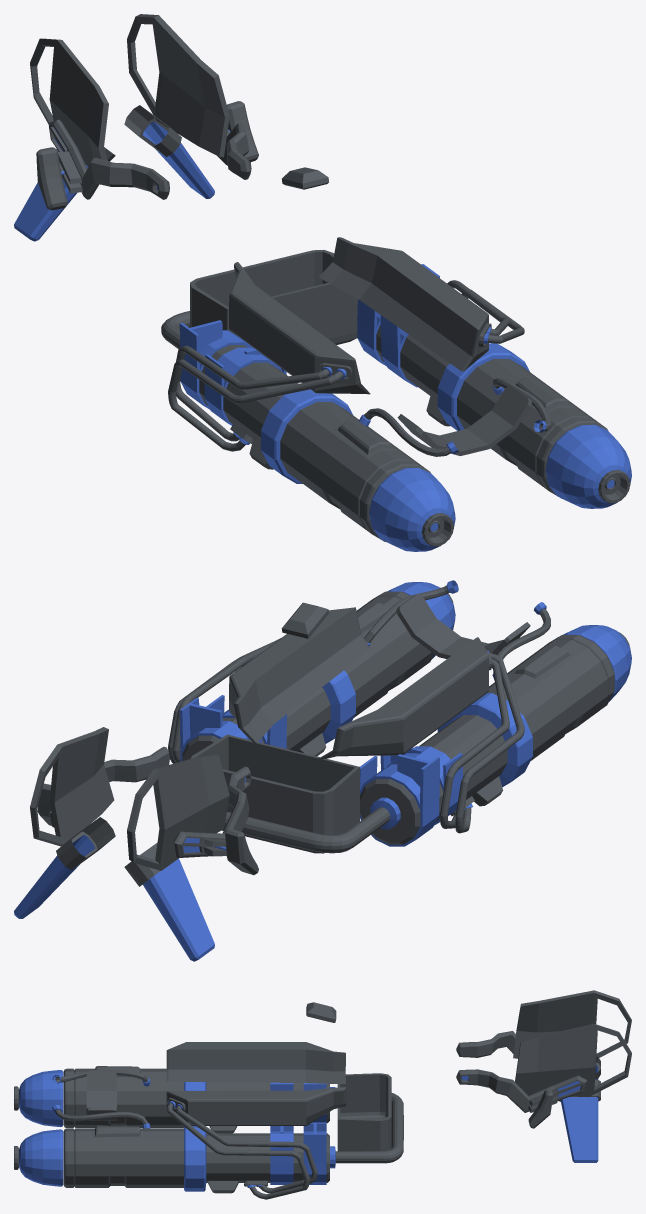
Rendered from Personal_Vehicle_03_Main_Frame_Blue.fbx.
3 views of the same model, one above another, from view 1: azimuth 30°, elevation 25°; view 2: azimuth 150°, elevation 25°; view 3: azimuth 270°, elevation 25° (orthographic). The views are drawn at different scales.
Parts seen in each view (by area): view 1: Personal_Vehicle_03_Main_Frame_Blue; view 2: Personal_Vehicle_03_Main_Frame_Blue; view 3: Personal_Vehicle_03_Main_Frame_Blue.
Boxes of the visible parts, x1=… form: Personal_Vehicle_03_Main_Frame_Blue: x1=14, y1=14, x2=631, y2=551; Personal_Vehicle_03_Main_Frame_Blue: x1=14, y1=580, x2=631, y2=961; Personal_Vehicle_03_Main_Frame_Blue: x1=14, y1=990, x2=631, y2=1199.
Bounding box in the file's own units: 177 × 128 × 465.
1 material, 1 textured.
